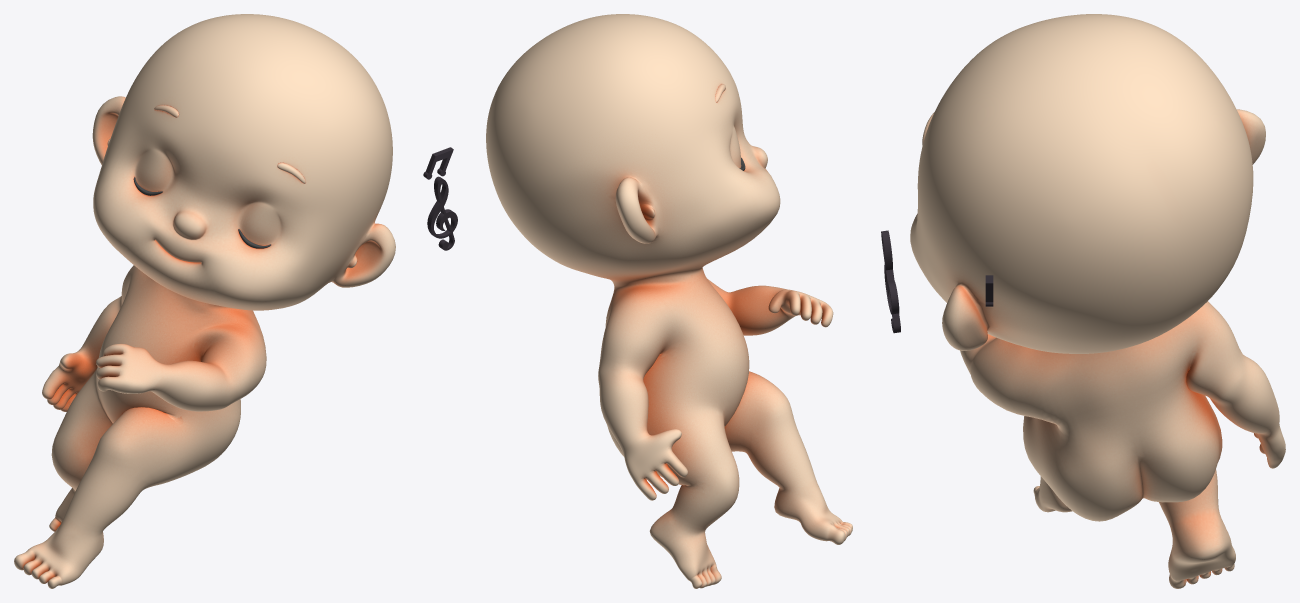
3 views of the same model, side by side, from view 1: azimuth 30°, elevation 25°; view 2: azimuth 150°, elevation 25°; view 3: azimuth 270°, elevation 25° (orthographic). The views are drawn at different scales.
Visible parts, largest first — view 1: Roundcube.005, Plane.003; view 2: Roundcube.005; view 3: Roundcube.005, Plane.003.
Boxes of the visible parts, x1,y1,x2,y2 form: Roundcube.005: [14, 14, 395, 588]; Plane.003: [427, 176, 457, 250]; Roundcube.005: [486, 14, 852, 588]; Roundcube.005: [910, 14, 1285, 588]; Plane.003: [881, 230, 900, 333].
Bounding box in the file's own units: 3.21 × 4.08 × 2.35.
Materials: 2 (1 with a texture image).
